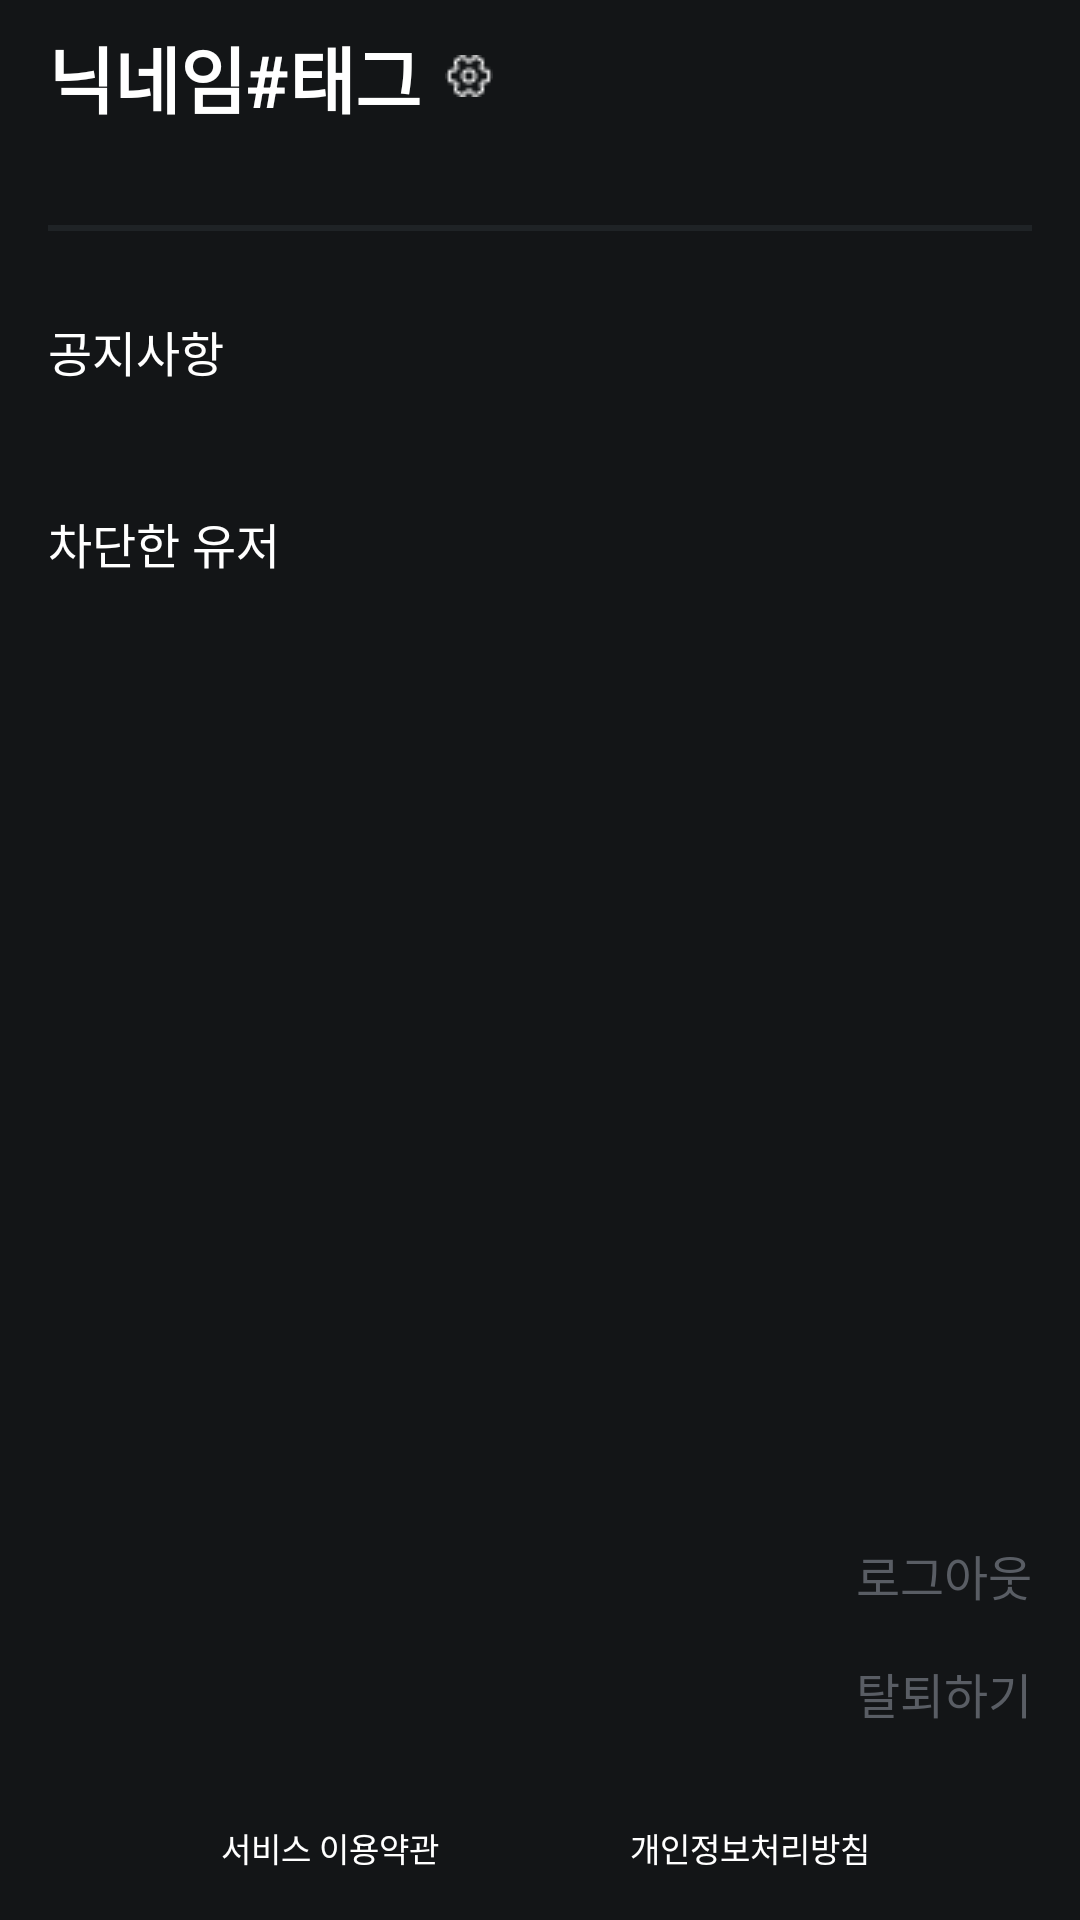

Screen size 1080px×1920px. Icon name, then its box in pixels as (x1, y1, x2, y2):
setting: (445, 55, 493, 97)
